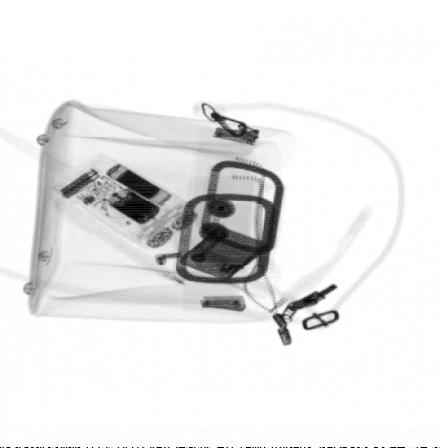Lighter: (179, 224, 269, 280)
